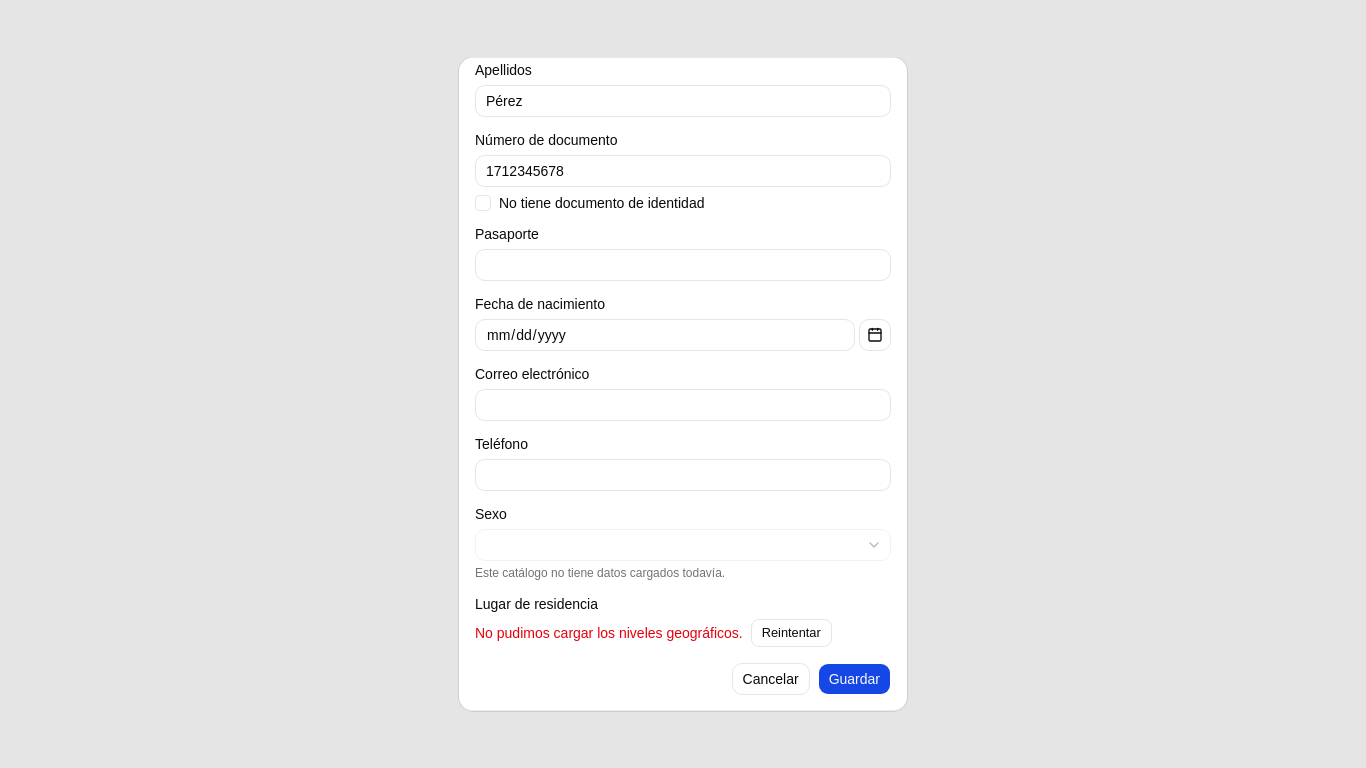
PatientFormDialog — mapeo de errores (SPEC FE10 §3.5) › un 409 con PATIENT_004_GEOLOC_NOT_FOUND marca residenceGeoLocationId, no un toast
(page scrolled)
Check: the field labelled "Número de documento" is shown, box [475,155,891,187]
Click the button "Guardar" at (854, 679), box [818,663,891,695]
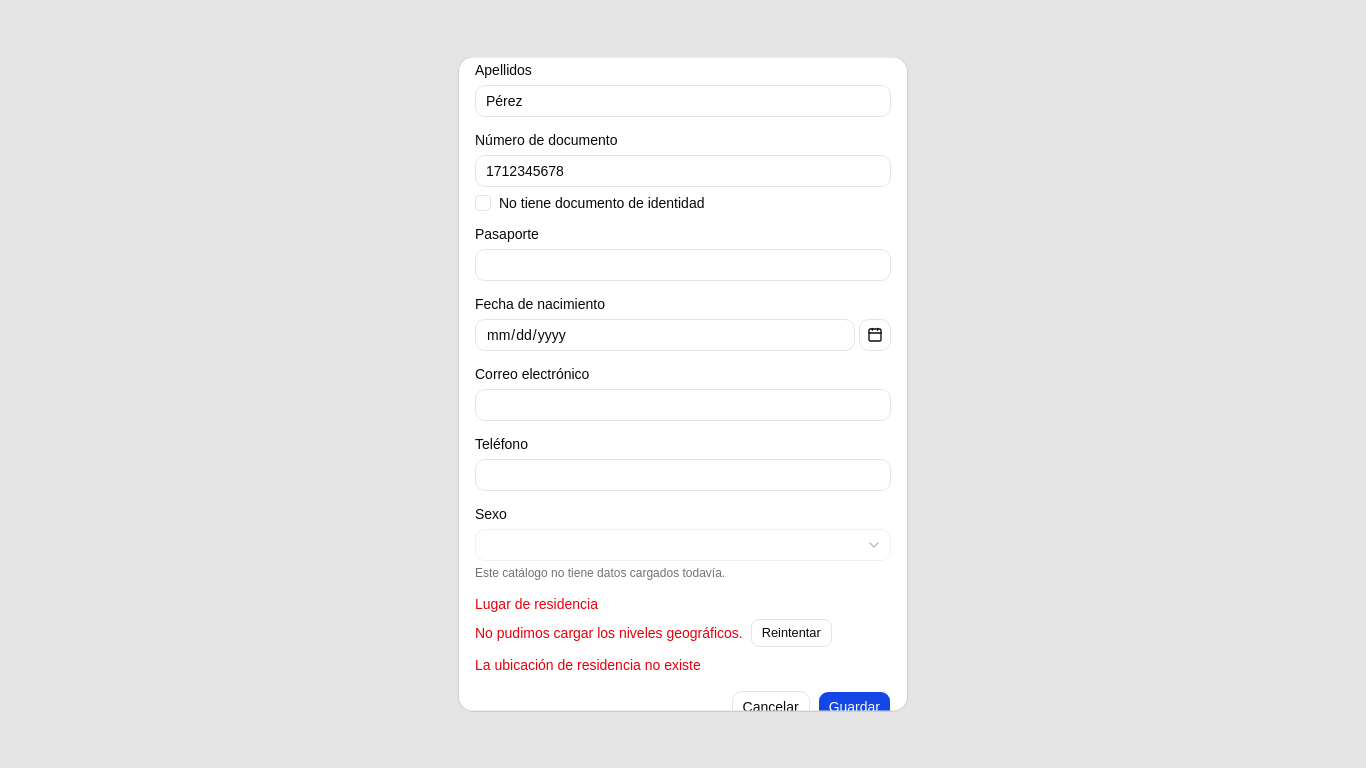
Check: the text "La ubicación de residencia no existe" is shown, box [475,657,701,673]
